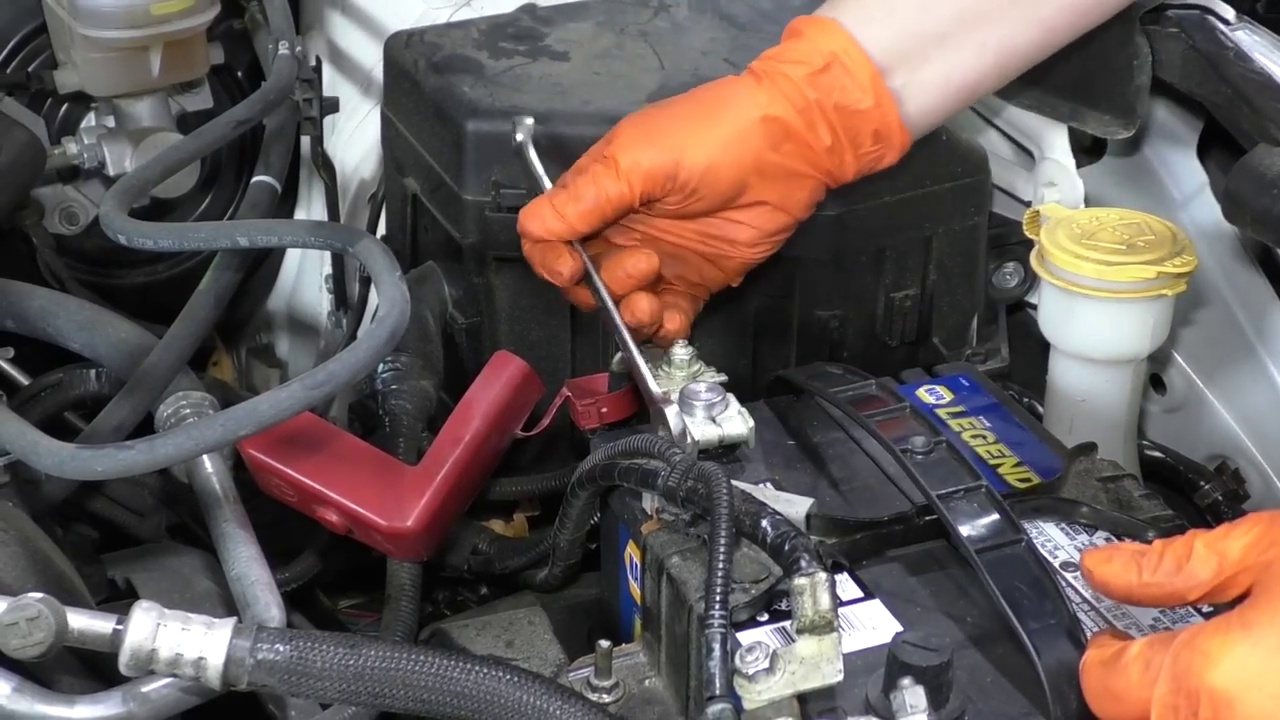battery: (587, 348, 1211, 713)
pos_connected: (594, 312, 789, 476)
pos_touched: (525, 194, 759, 453)
